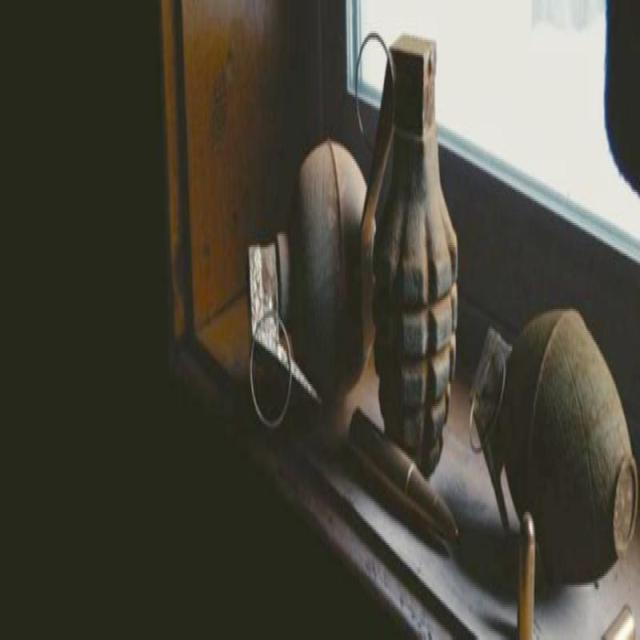grenade: (473, 303, 639, 588), (356, 34, 460, 484), (247, 143, 378, 427)
